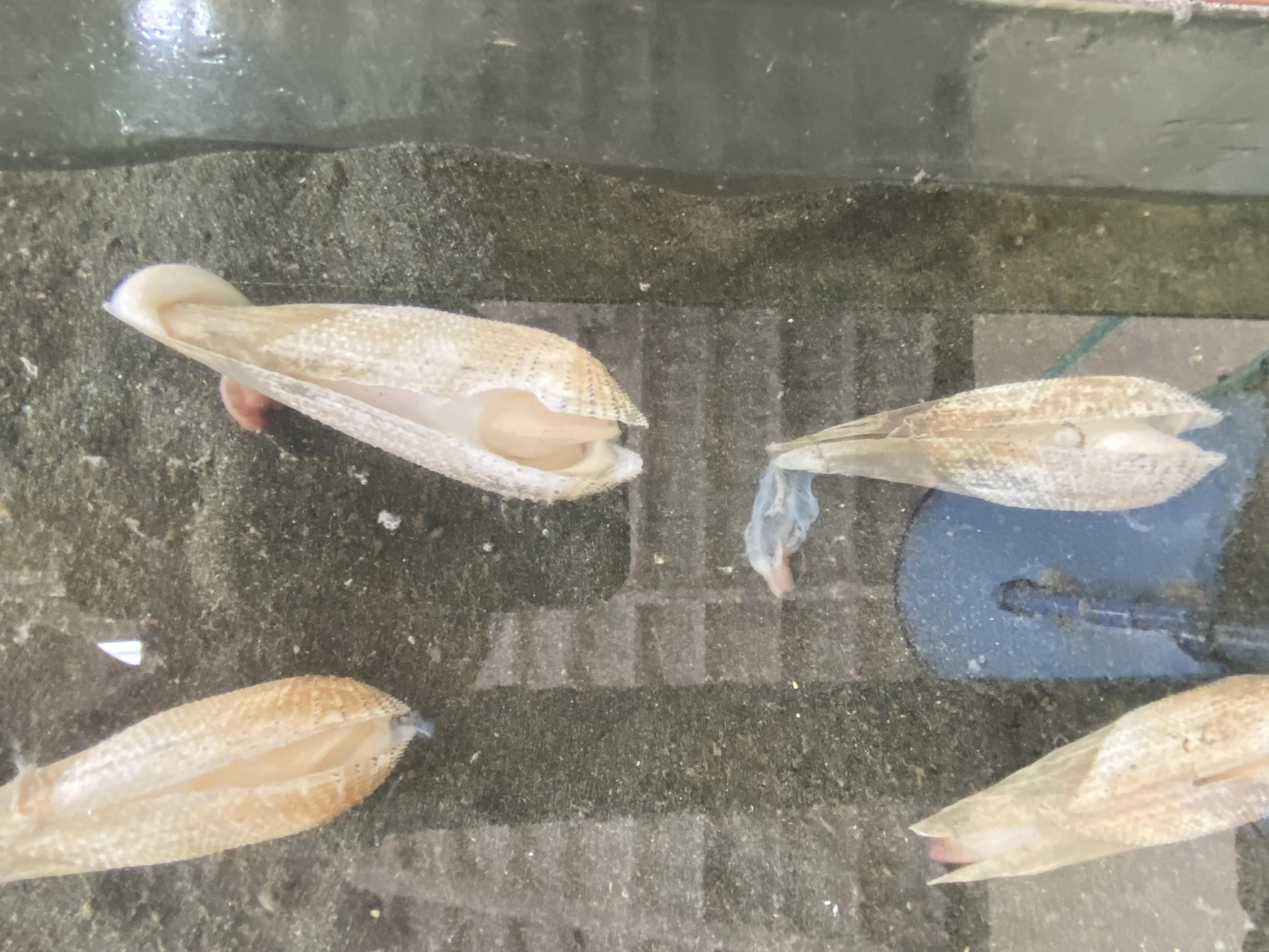At risk: (105, 265, 647, 502), (745, 376, 1226, 596), (0, 676, 433, 882), (910, 675, 1269, 884)
